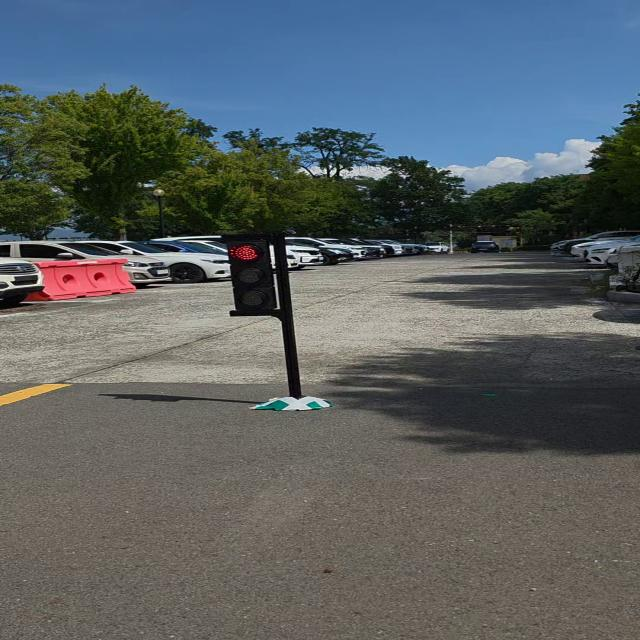red: (219, 233, 283, 319)
